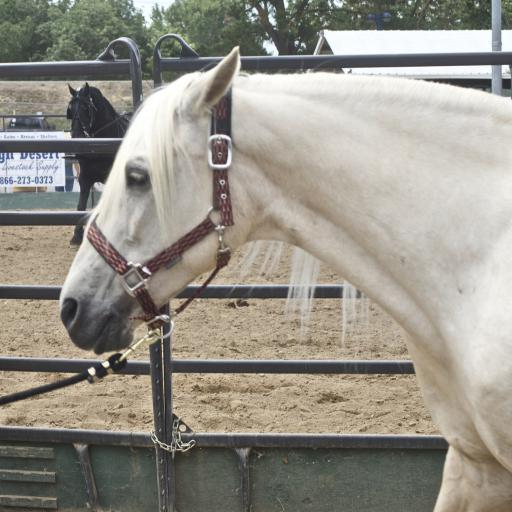horse: (56, 46, 510, 510), (65, 82, 133, 248)
